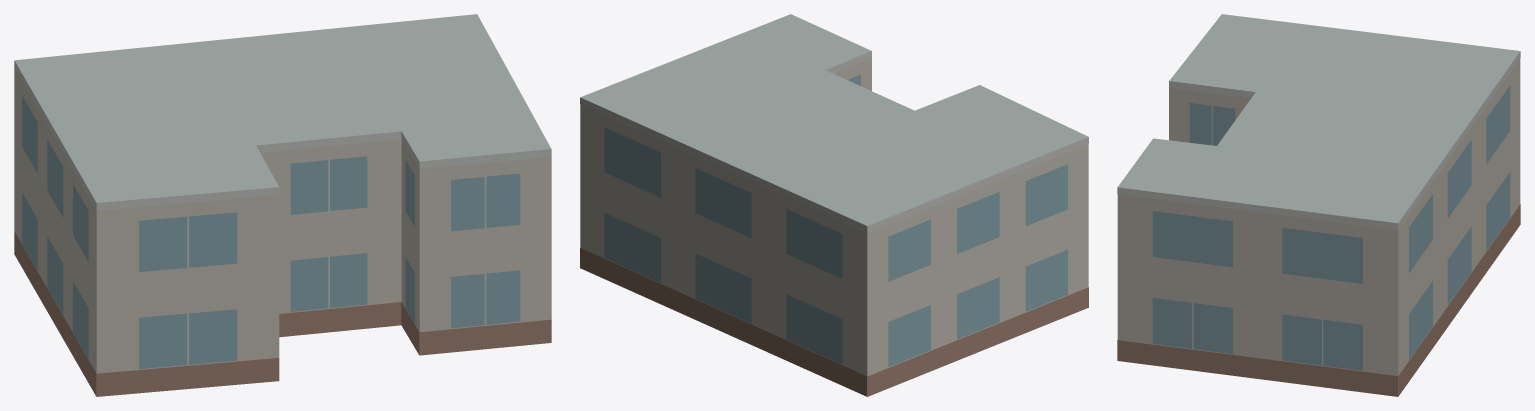
File: survey-upis-33020093.glb
3 views of the same model, side by side, from view 1: azimuth 30°, elevation 25°; view 2: azimuth 150°, elevation 25°; view 3: azimuth 270°, elevation 25° (orthographic). The views are drawn at different scales.
Parts seen in each view (by area): view 1: survey-upis-33020093.tmp; view 2: survey-upis-33020093.tmp; view 3: survey-upis-33020093.tmp.
Part boxes in pixels (x1,y1,x2,y2): survey-upis-33020093.tmp: (14,14,551,396); survey-upis-33020093.tmp: (580,14,1088,396); survey-upis-33020093.tmp: (1117,14,1520,396).
Bounding box in the file's own units: 15.79 × 6.1 × 12.85.
